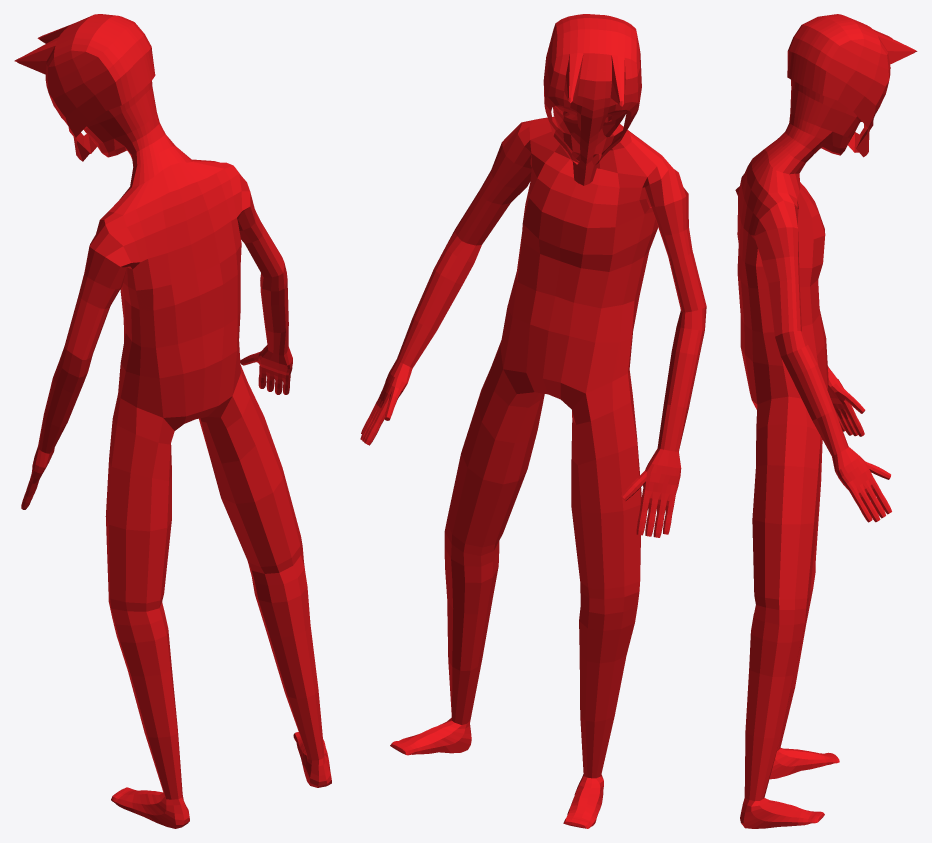
The model's file is reposoE_000276.obj.
3 views of the same model, side by side, from view 1: azimuth 30°, elevation 25°; view 2: azimuth 150°, elevation 25°; view 3: azimuth 270°, elevation 25° (orthographic). The views are drawn at different scales.
Visible parts, largest first — view 1: Plane.002_Plane.001; view 2: Plane.002_Plane.001; view 3: Plane.002_Plane.001.
Boxes of the visible parts, x1,y1,x2,y2 form: Plane.002_Plane.001: [14, 14, 331, 828]; Plane.002_Plane.001: [360, 14, 706, 828]; Plane.002_Plane.001: [735, 14, 917, 828].
Bounding box in the file's own units: 2.66 × 7.1 × 1.58.
